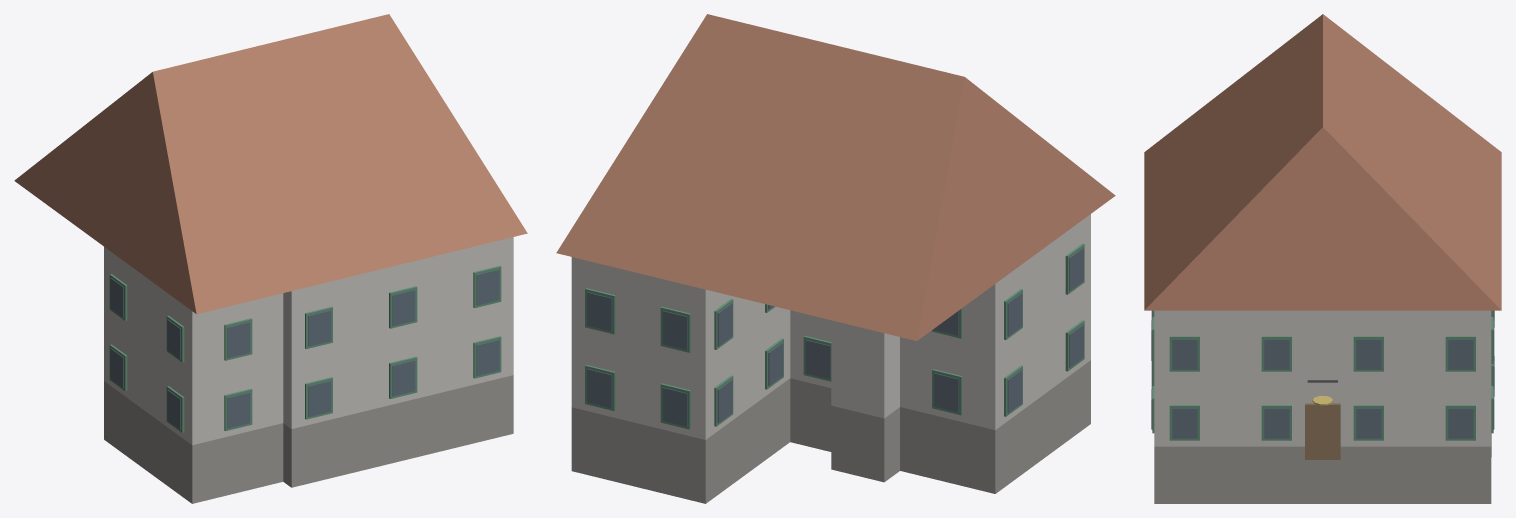
Rendered from landmark-inn-668713560.glb.
The picture shows the model from 3 angles, left to right: view 1: azimuth 30°, elevation 25°; view 2: azimuth 150°, elevation 25°; view 3: azimuth 270°, elevation 25°; orthographic projection. The views are drawn at different scales.
Visible parts, largest first — view 1: building; view 2: building; view 3: building.
Part boxes in pixels (x1=…): building: x1=14, y1=14, x2=527, y2=503; building: x1=556, y1=14, x2=1115, y2=503; building: x1=1144, y1=14, x2=1501, y2=503.
Bounding box in the file's own units: 15.9 × 15.6 × 14.09.
